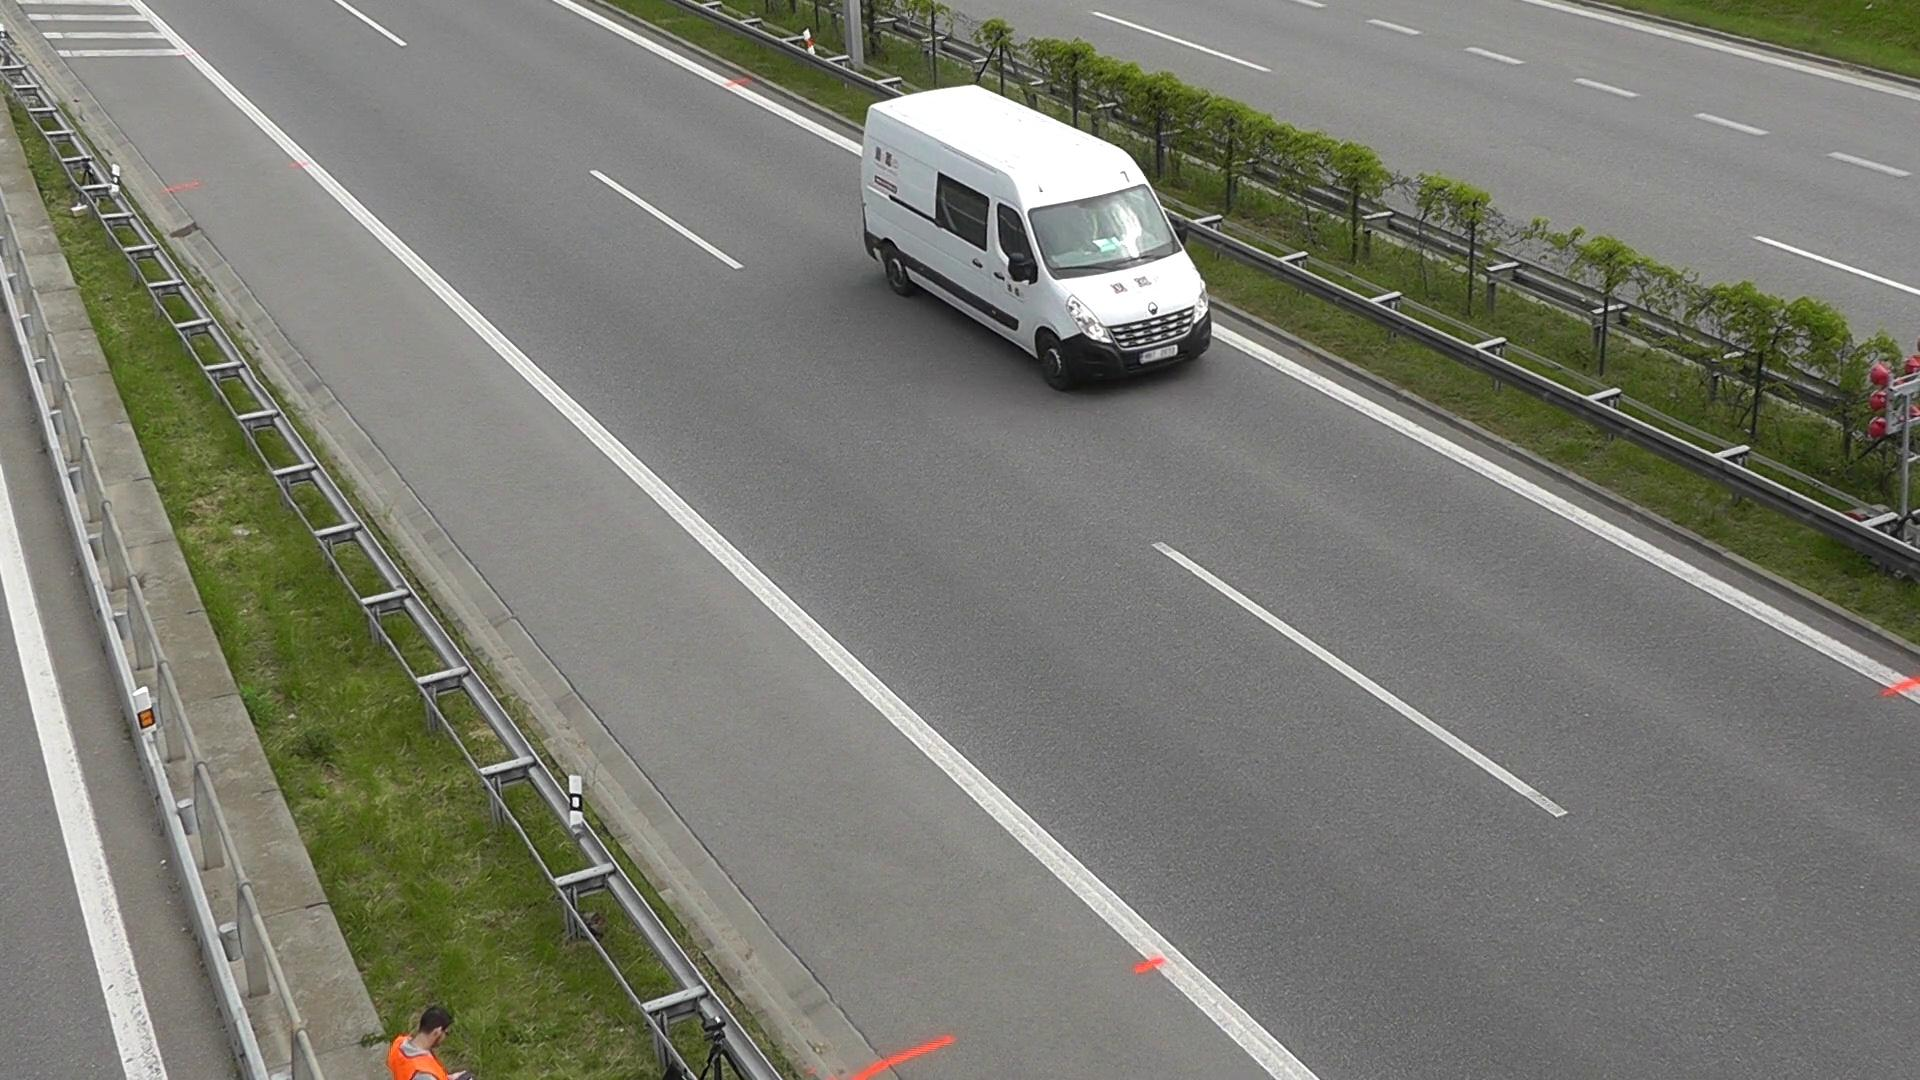Human: (376, 998, 475, 1079)
Pedestrian: (214, 723, 742, 1079), (101, 435, 494, 720)
Van: (826, 90, 1229, 396)
